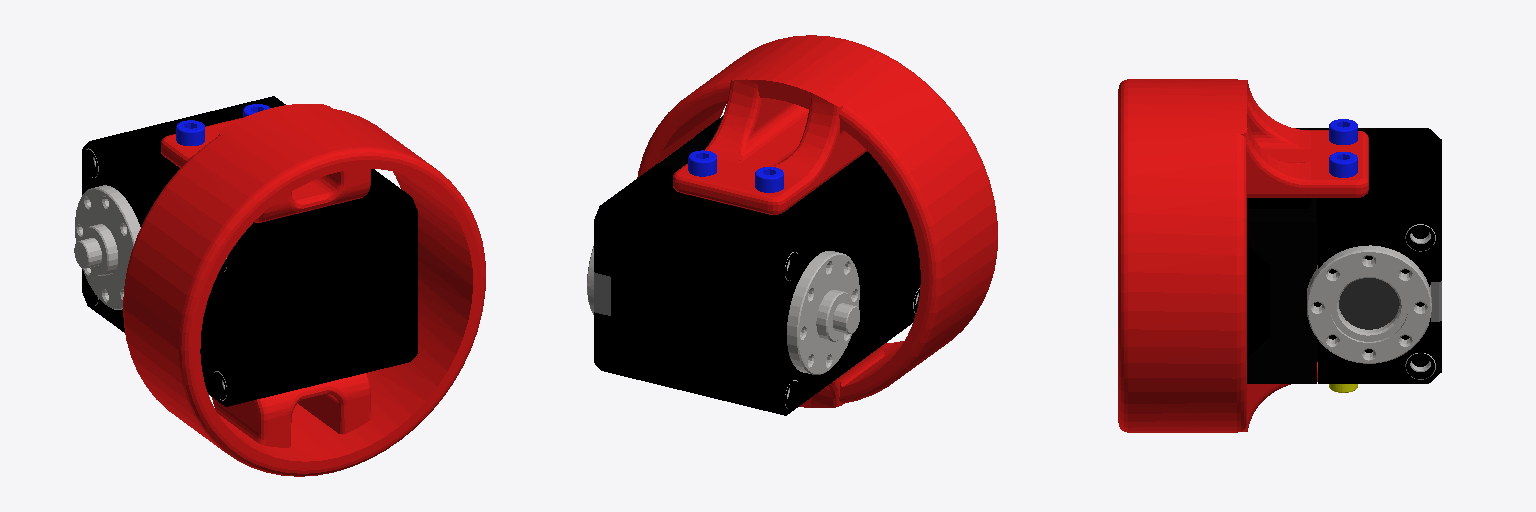
File: head_color.obj
3 renders of one model, left to right at view 1: azimuth 30°, elevation 25°; view 2: azimuth 150°, elevation 25°; view 3: azimuth 270°, elevation 25°, orthographic.
Visible parts, largest first — view 1: 솔리드1:1, 솔리드1, Solid1:1; view 2: 솔리드1, 솔리드1:1, 솔리드10, Solid1, Solid1:1; view 3: 솔리드1:1, 솔리드1, 솔리드10, Solid1:1, Solid1.
Part boxes in pixels (x1,y1,x2,y2): 솔리드1:1: (123,104,485,476); 솔리드1: (74,96,417,406); Solid1:1: (176,120,204,145); 솔리드1: (587,116,920,415); 솔리드1:1: (637,35,997,407); 솔리드10: (658,134,712,169); Solid1: (688,150,716,176); Solid1:1: (755,167,783,192); 솔리드1:1: (1118,79,1368,432); 솔리드1: (1247,128,1441,383); 솔리드10: (1247,198,1316,383); Solid1:1: (1329,119,1357,144); Solid1: (1329,152,1357,177).
Size of the model in its own units: 55 by 55 by 50.25.